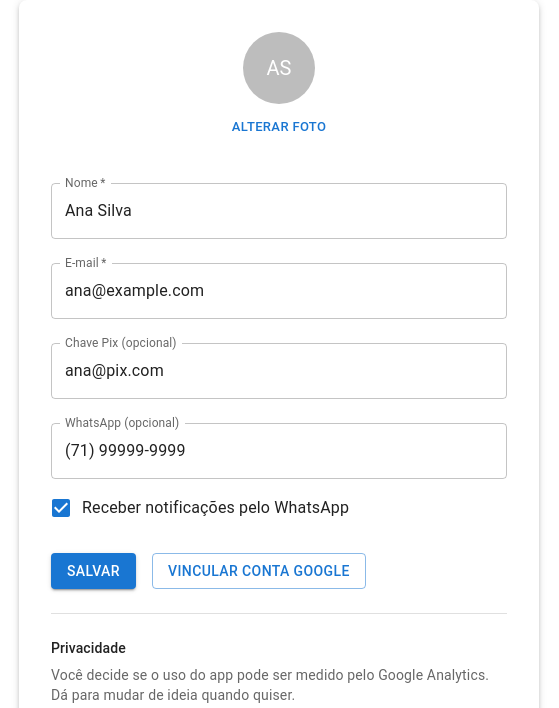
Profile › shows the backend validation error on failure
The width and height of the screenshot is (559, 708).
Check: the field showing "Ana Silva" is shown, box top-left (51, 183), bottom-right (507, 239)
What coordinates should you click on to do the following:
click the button "Salvar"
I would click on:
 (94, 571)
Its box is top-left (51, 553), bottom-right (136, 589).
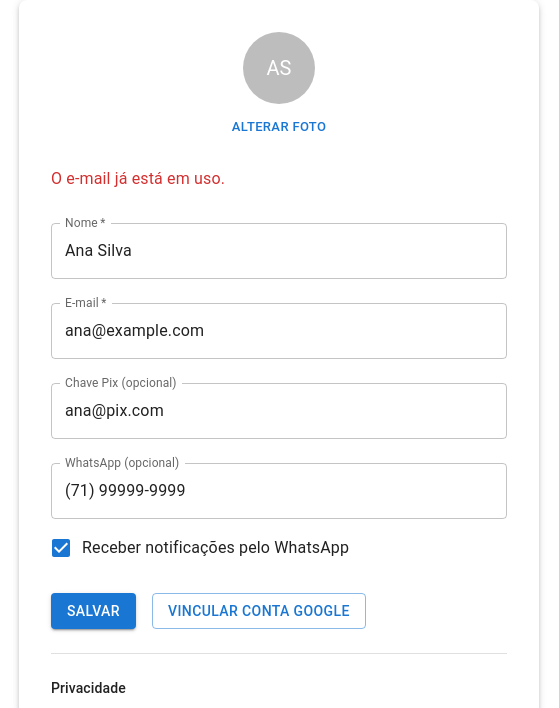
Check: the text "O e-mail já está em uso." is shown, box top-left (51, 169), bottom-right (225, 188)
